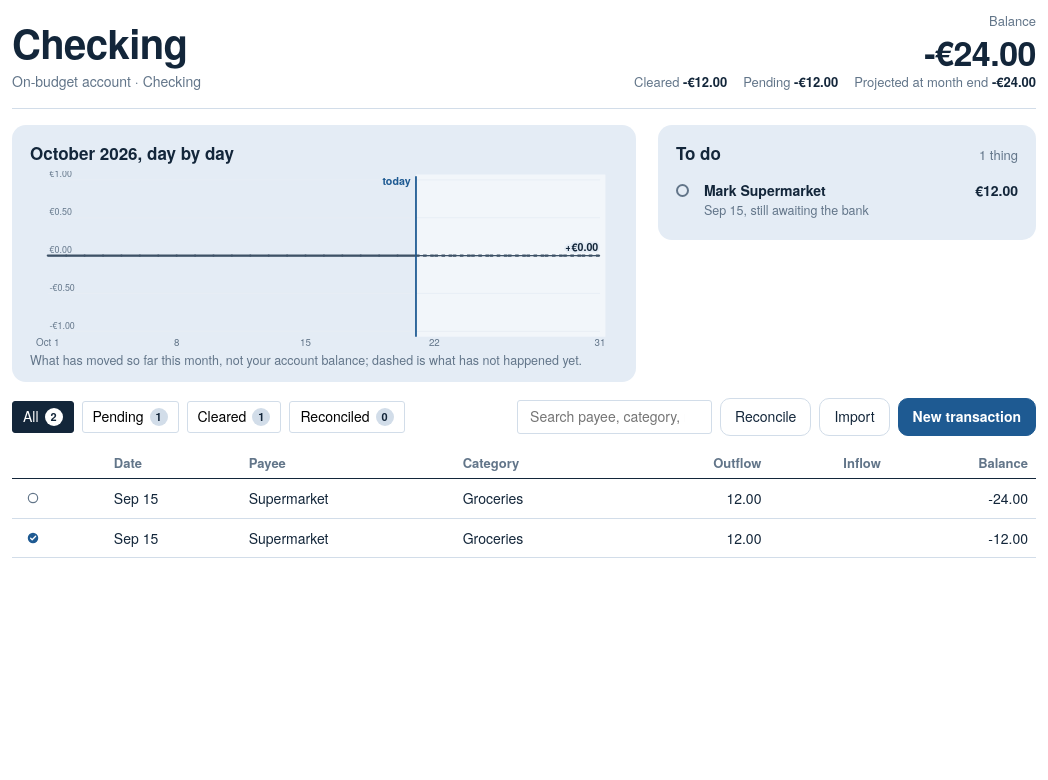
Test: AccountRegisterScreen (#54, #333) › filters by status with counts
Click the button "Pending 1": (130, 417) [82,401,179,433]
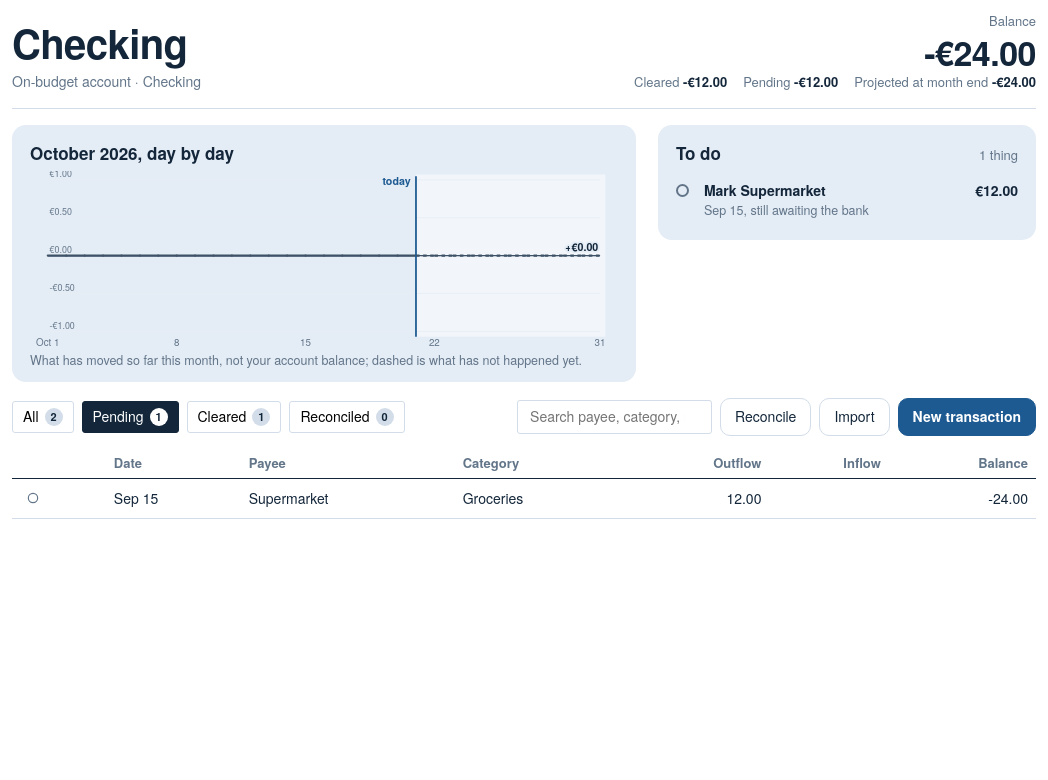
Now the number of buttons "Supermarket" is 1, box [249,488,447,509]
